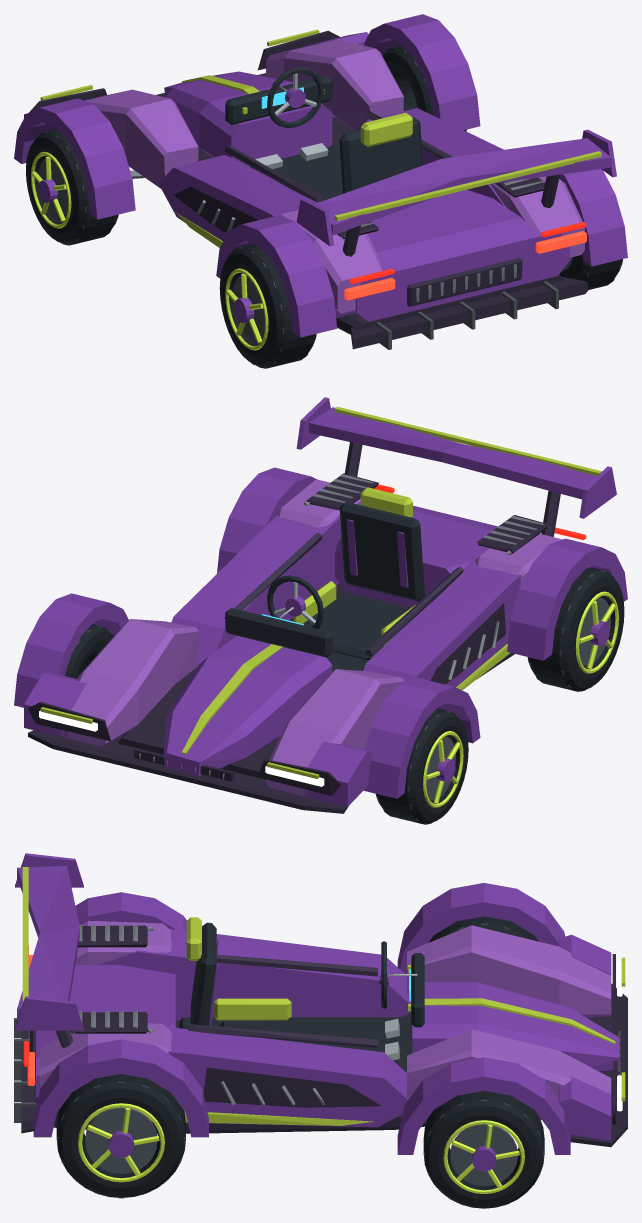
The model's file is apex_lod0.glb.
3 renders of one model, top to bottom at view 1: azimuth 30°, elevation 25°; view 2: azimuth 150°, elevation 25°; view 3: azimuth 270°, elevation 25°, orthographic. The views are drawn at different scales.
Parts seen in each view (by area): view 1: body_mesh, wheel_rl, wheel_fl, wheel_fr, steering_wheel, light_tail_mesh, wheel_rr, light_brake_mesh; view 2: body_mesh, wheel_rl, wheel_fl, steering_wheel, wheel_fr, light_head_mesh; view 3: body_mesh, wheel_rr, wheel_fr, wheel_fl.
Boxes of the visible parts, x1=… form: body_mesh: x1=14, y1=14, x2=627, y2=349; wheel_rl: x1=219, y1=244, x2=316, y2=368; wheel_fl: x1=26, y1=129, x2=118, y2=245; wheel_fr: x1=382, y1=45, x2=466, y2=131; steering_wheel: x1=267, y1=67, x2=323, y2=127; light_tail_mesh: x1=344, y1=231, x2=586, y2=300; wheel_rr: x1=559, y1=254, x2=622, y2=289; light_brake_mesh: x1=349, y1=222, x2=586, y2=283; body_mesh: x1=14, y1=397, x2=627, y2=813; wheel_rl: x1=527, y1=567, x2=624, y2=691; wheel_fl: x1=375, y1=708, x2=468, y2=824; steering_wheel: x1=267, y1=575, x2=323, y2=628; wheel_fr: x1=64, y1=624, x2=112, y2=678; light_head_mesh: x1=39, y1=710, x2=324, y2=786; body_mesh: x1=14, y1=853, x2=627, y2=1154; wheel_rr: x1=56, y1=1074, x2=185, y2=1198; wheel_fr: x1=423, y1=1091, x2=544, y2=1208; wheel_fl: x1=428, y1=916, x2=538, y2=942.
Size of the model in its own units: 2.33 by 0.99 by 2.95.
